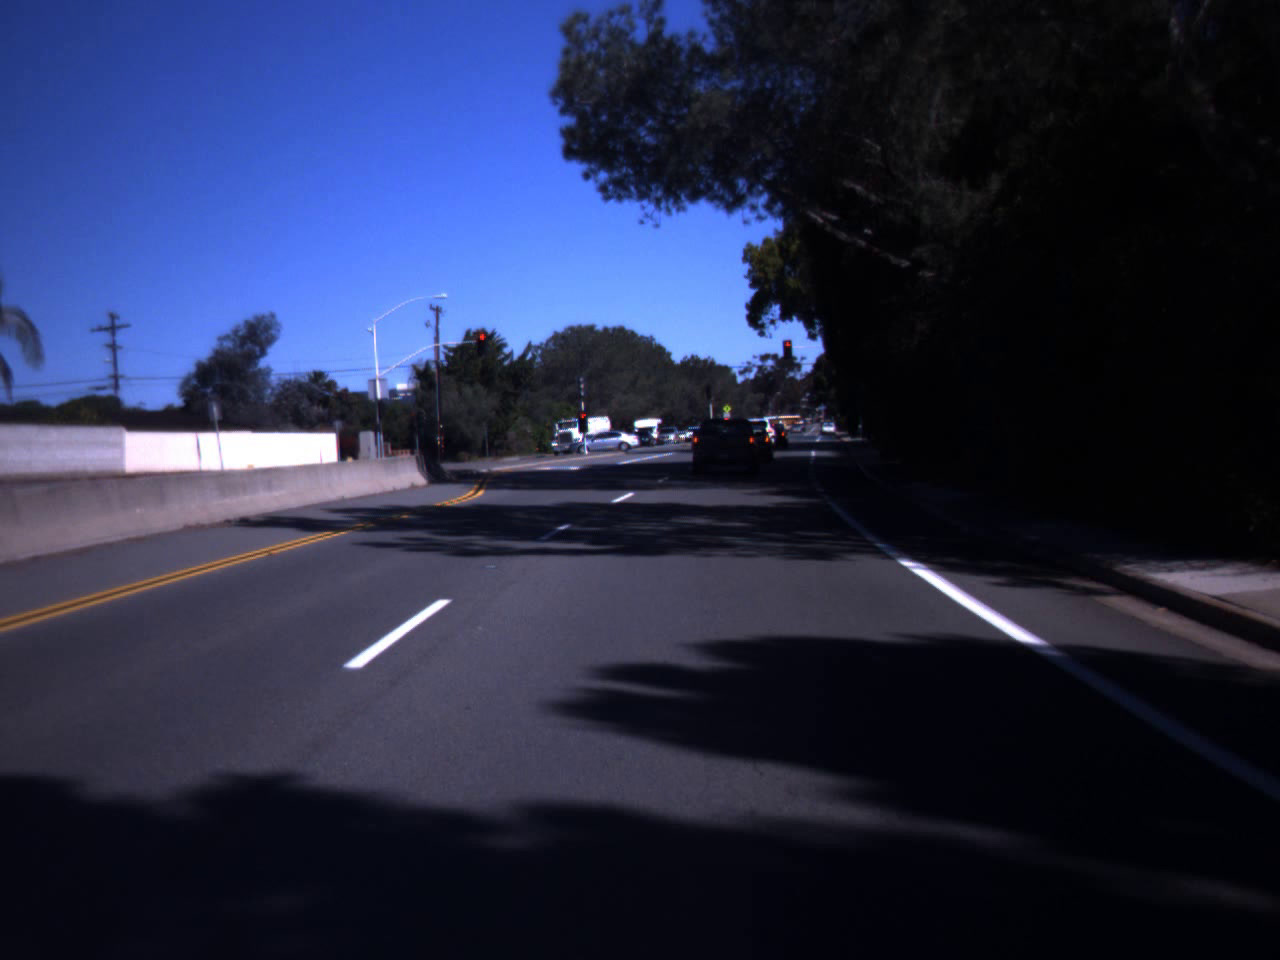stop: (476, 331, 488, 358), (782, 340, 794, 358), (578, 412, 590, 430)
